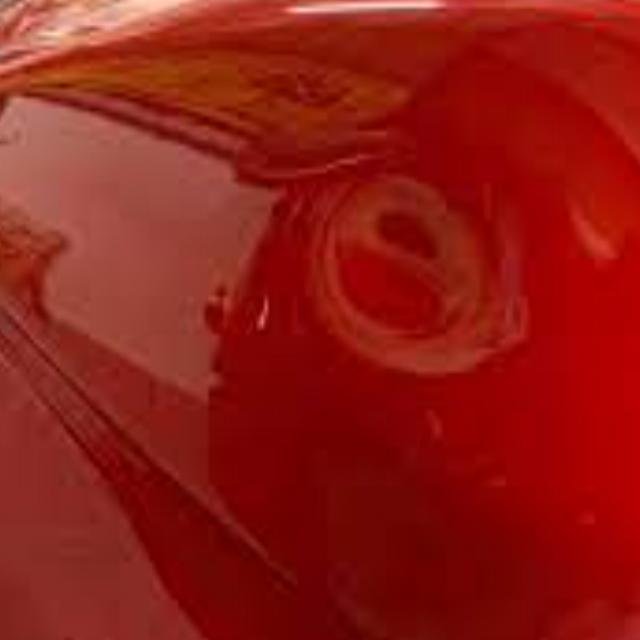dents: (318, 155, 531, 399)
